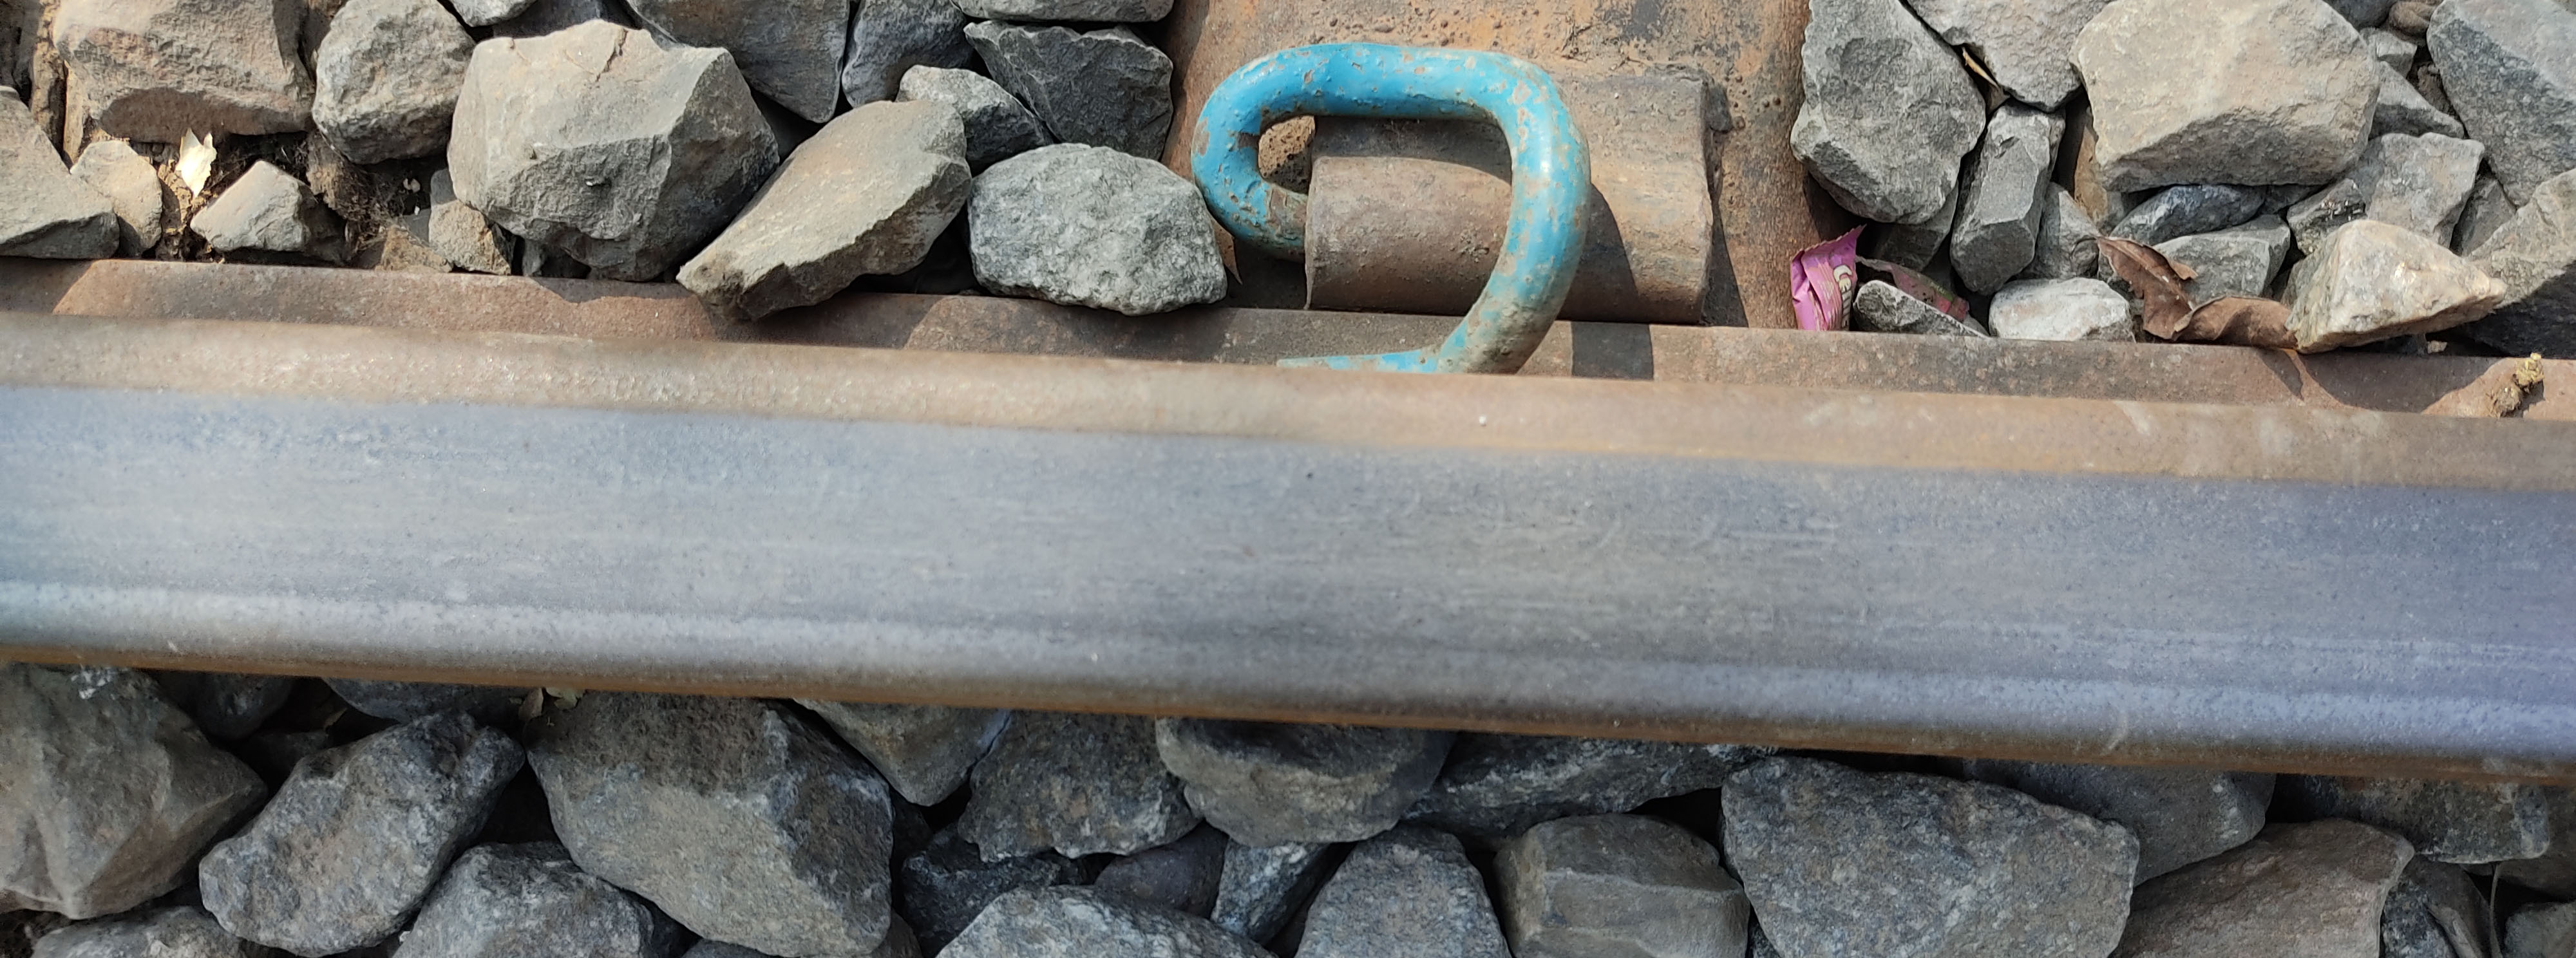error1: (1199, 43, 1625, 406)
